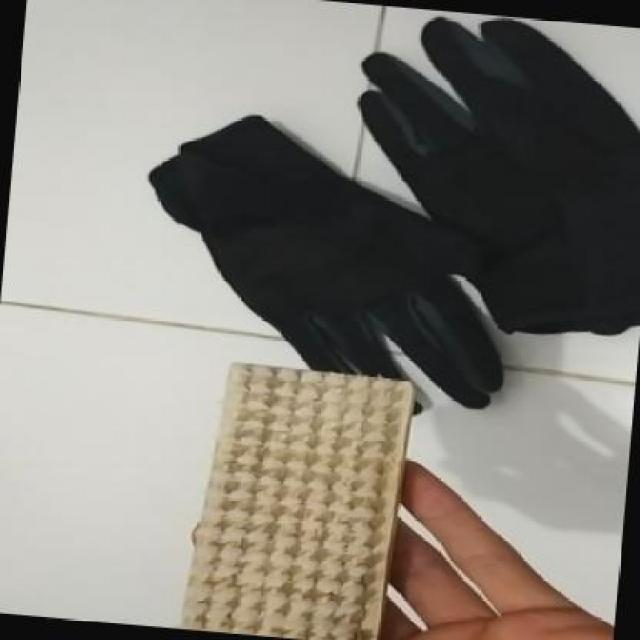gloved_hand: (118, 99, 522, 412), (338, 6, 638, 342)
